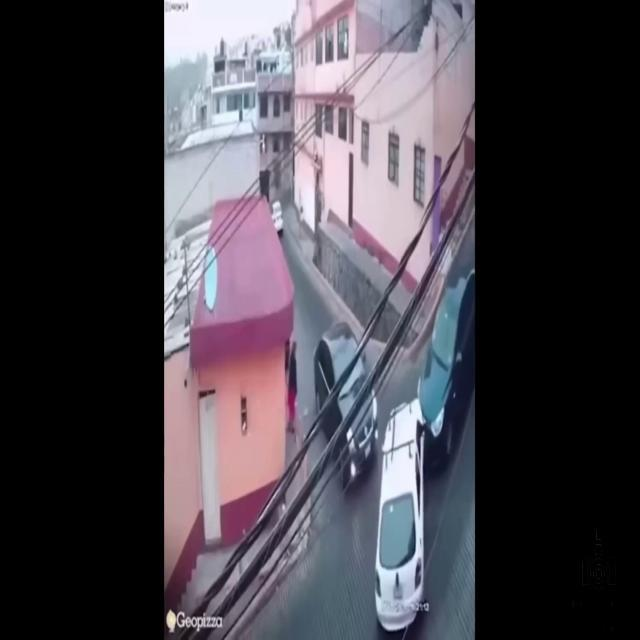accident: (374, 282, 474, 584)
